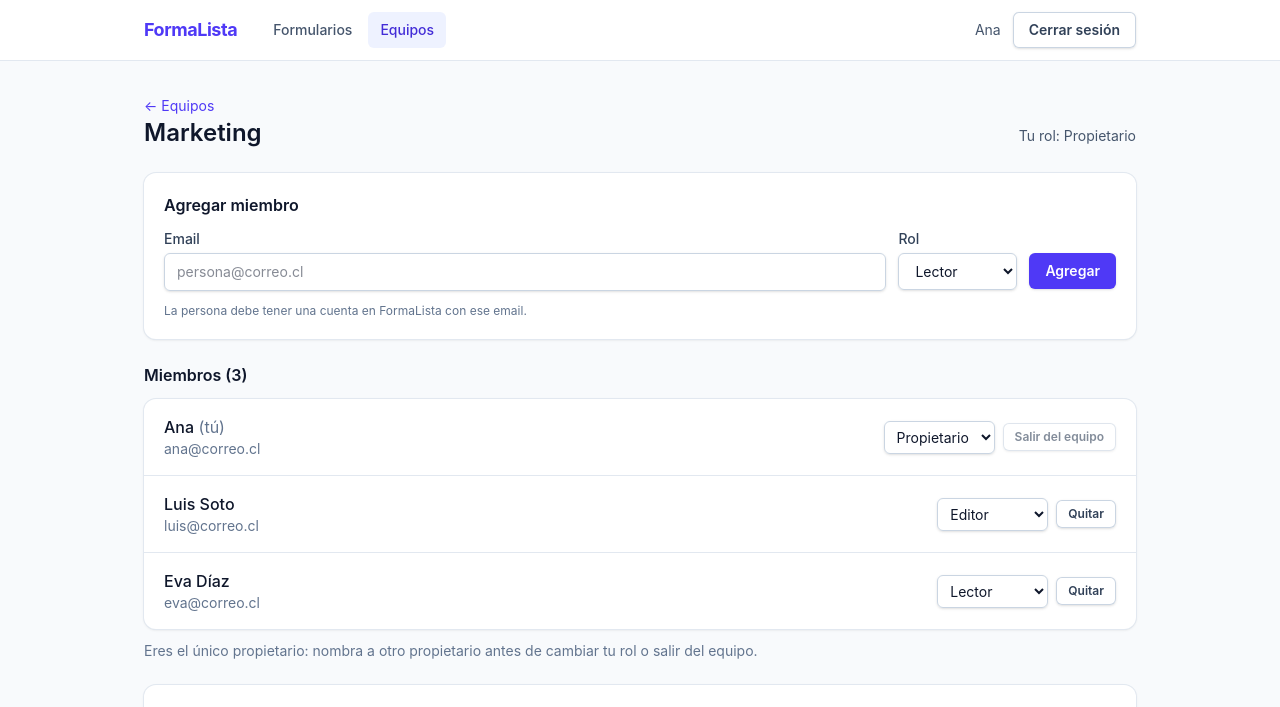
Test: Equipos: miembros (como propietaria) › cambiar el rol guarda al elegir y lo anuncia
Select "Editor" in the dropdown named "Rol de Eva Díaz" in the row of "Eva Díaz". click: (993, 591)
box: [937,574,1048,608]
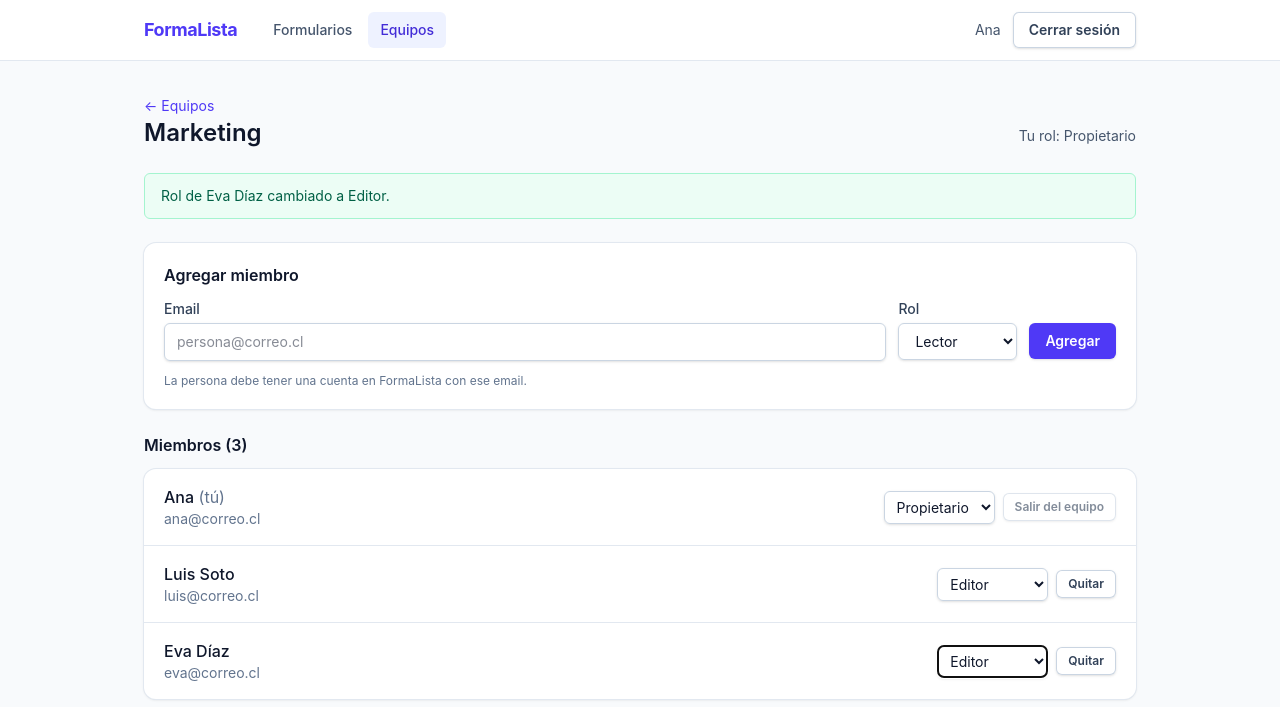
expect the text "Rol de Eva Díaz cambiado a Editor." is shown: met, box [144,173,1136,219]
